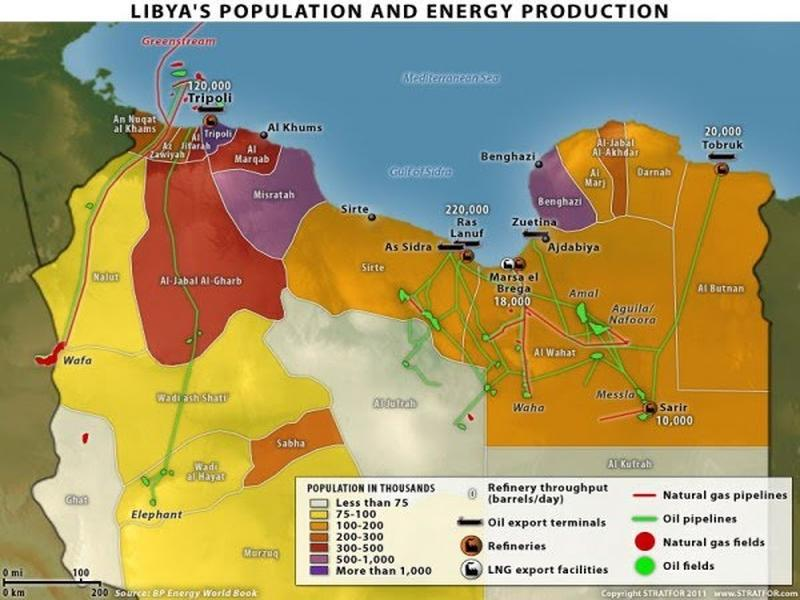legend: (292, 474, 795, 587)
